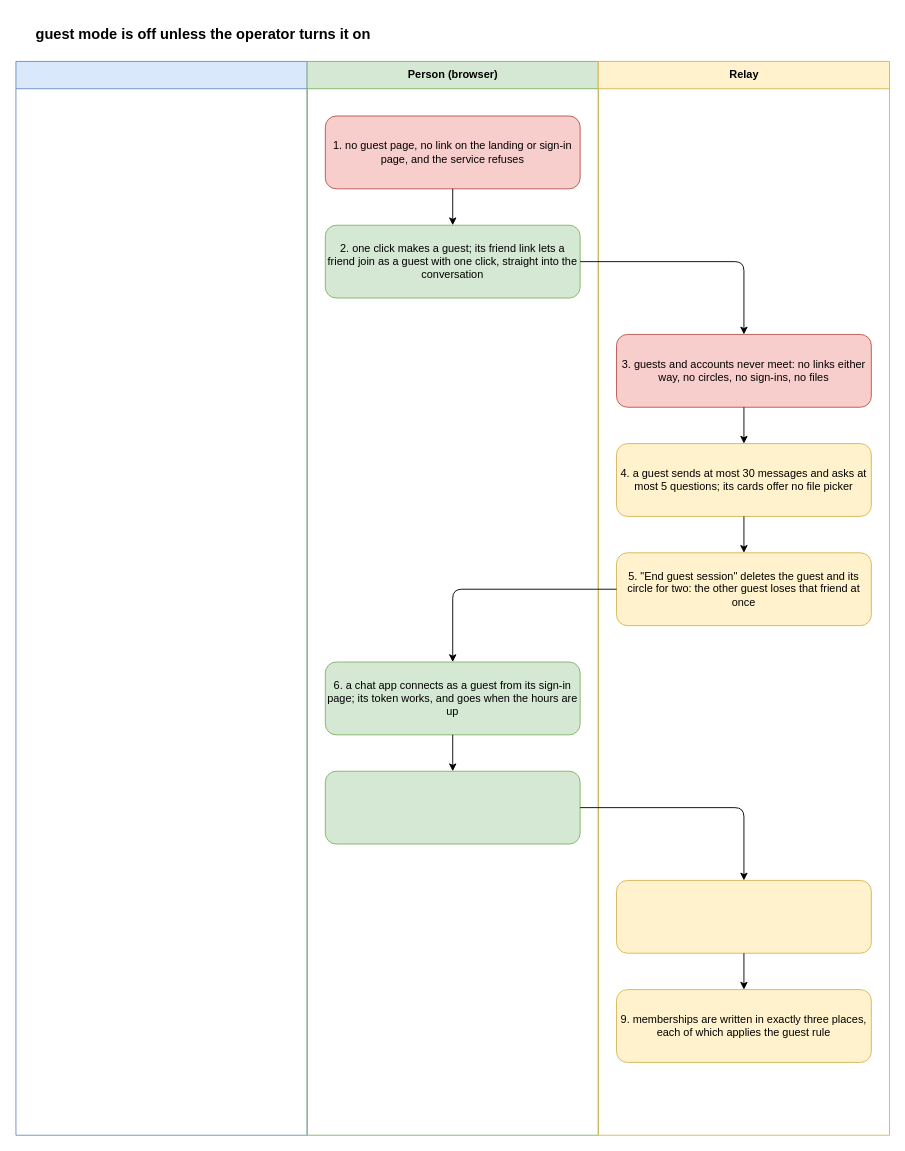
The diagram is 905 pixels wide and 1151 high, and some of its shapes have lost their labels. The centre of each missing label's shape, as x and y in pixels:
7. three guests an hour from one network, then a busy page: the point at 452,807
8. at most 300 live guests on a relay; one whose hours are up makes room: the point at 743,916
Agent (MCP client): the point at 161,598
